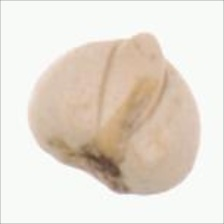L5: (96, 33, 172, 154), (51, 142, 134, 199), (116, 31, 173, 65)
L6: (24, 29, 206, 200)
